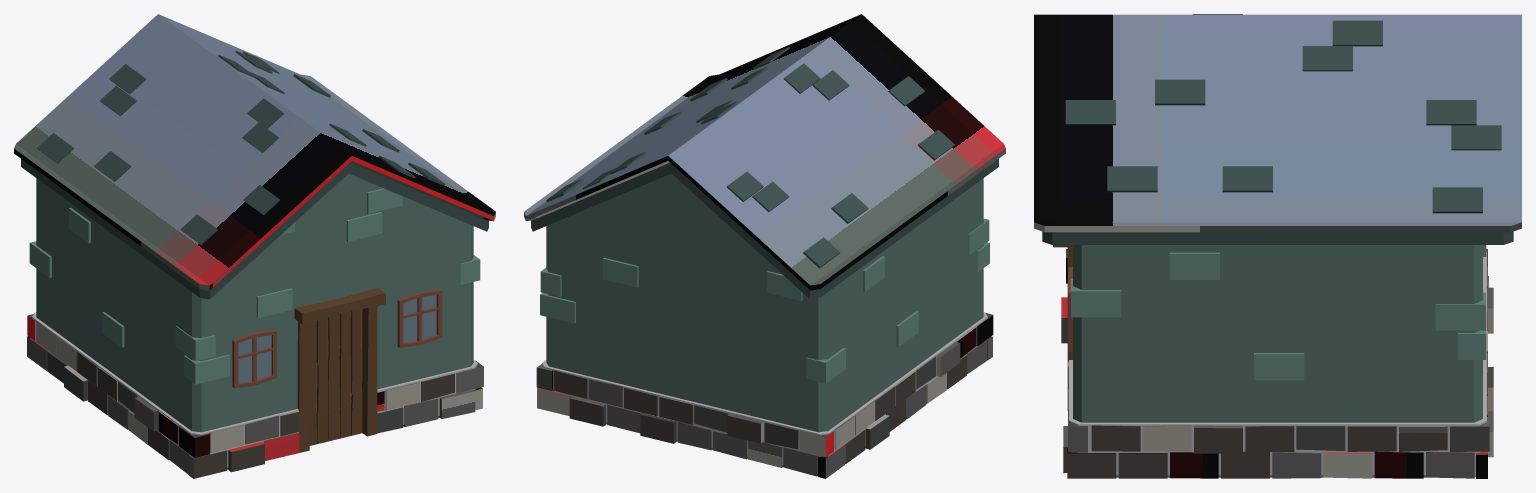
Rendered from quaternius-ultimate-textured-building-1-story-gableroof-mat.glb.
The picture shows the model from 3 angles, left to right: view 1: azimuth 30°, elevation 25°; view 2: azimuth 150°, elevation 25°; view 3: azimuth 270°, elevation 25°; orthographic projection. The views are drawn at different scales.
Parts seen in each view (by area): view 1: 1Story_GableRoof_Mat; view 2: 1Story_GableRoof_Mat; view 3: 1Story_GableRoof_Mat.
Boxes of the visible parts, bbox=[...] form: 1Story_GableRoof_Mat: bbox=[14, 14, 495, 478]; 1Story_GableRoof_Mat: bbox=[524, 14, 1005, 478]; 1Story_GableRoof_Mat: bbox=[1034, 14, 1521, 478].
Bounding box in the file's own units: 2.11 × 2.02 × 2.38.
2 materials, 2 textured.
